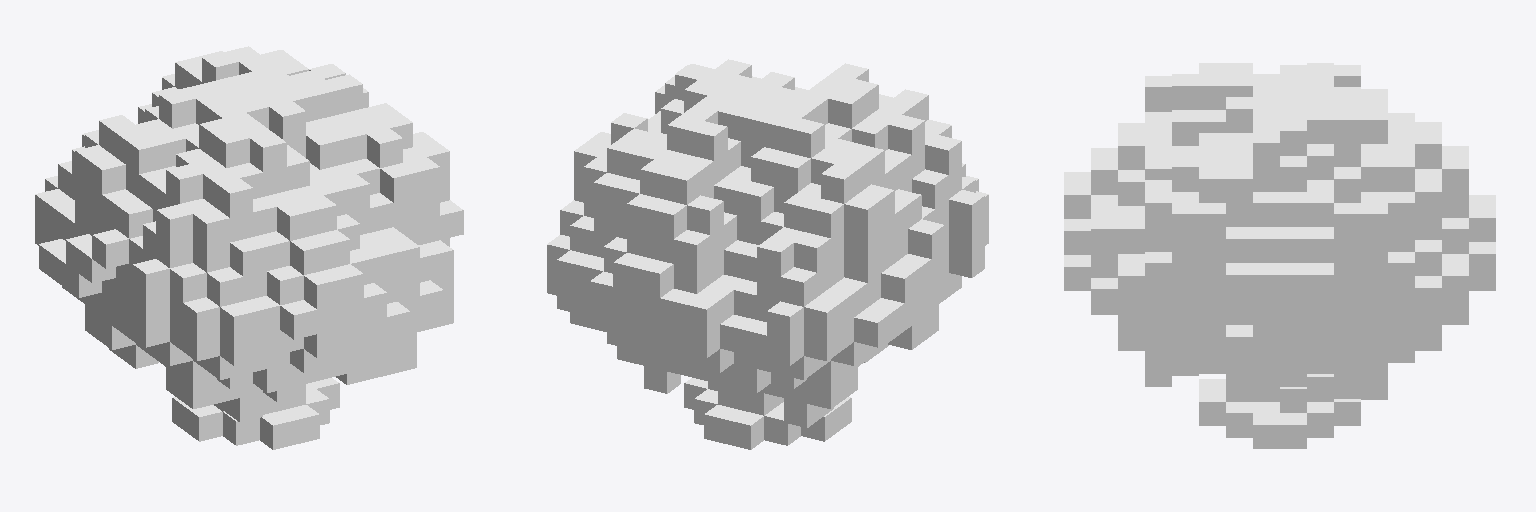
File: SMOL-BOSH.obj
3 views of the same model, side by side, from view 1: azimuth 30°, elevation 25°; view 2: azimuth 150°, elevation 25°; view 3: azimuth 270°, elevation 25° (orthographic).
Parts seen in each view (by area): view 1: object 1; view 2: object 1; view 3: object 1.
Boxes of the visible parts, x1=… form: object 1: x1=35, y1=46, x2=463, y2=449; object 1: x1=547, y1=59, x2=988, y2=449; object 1: x1=1064, y1=63, x2=1495, y2=448.
Bounding box in the file's own units: 1.4 × 1.3 × 1.6.